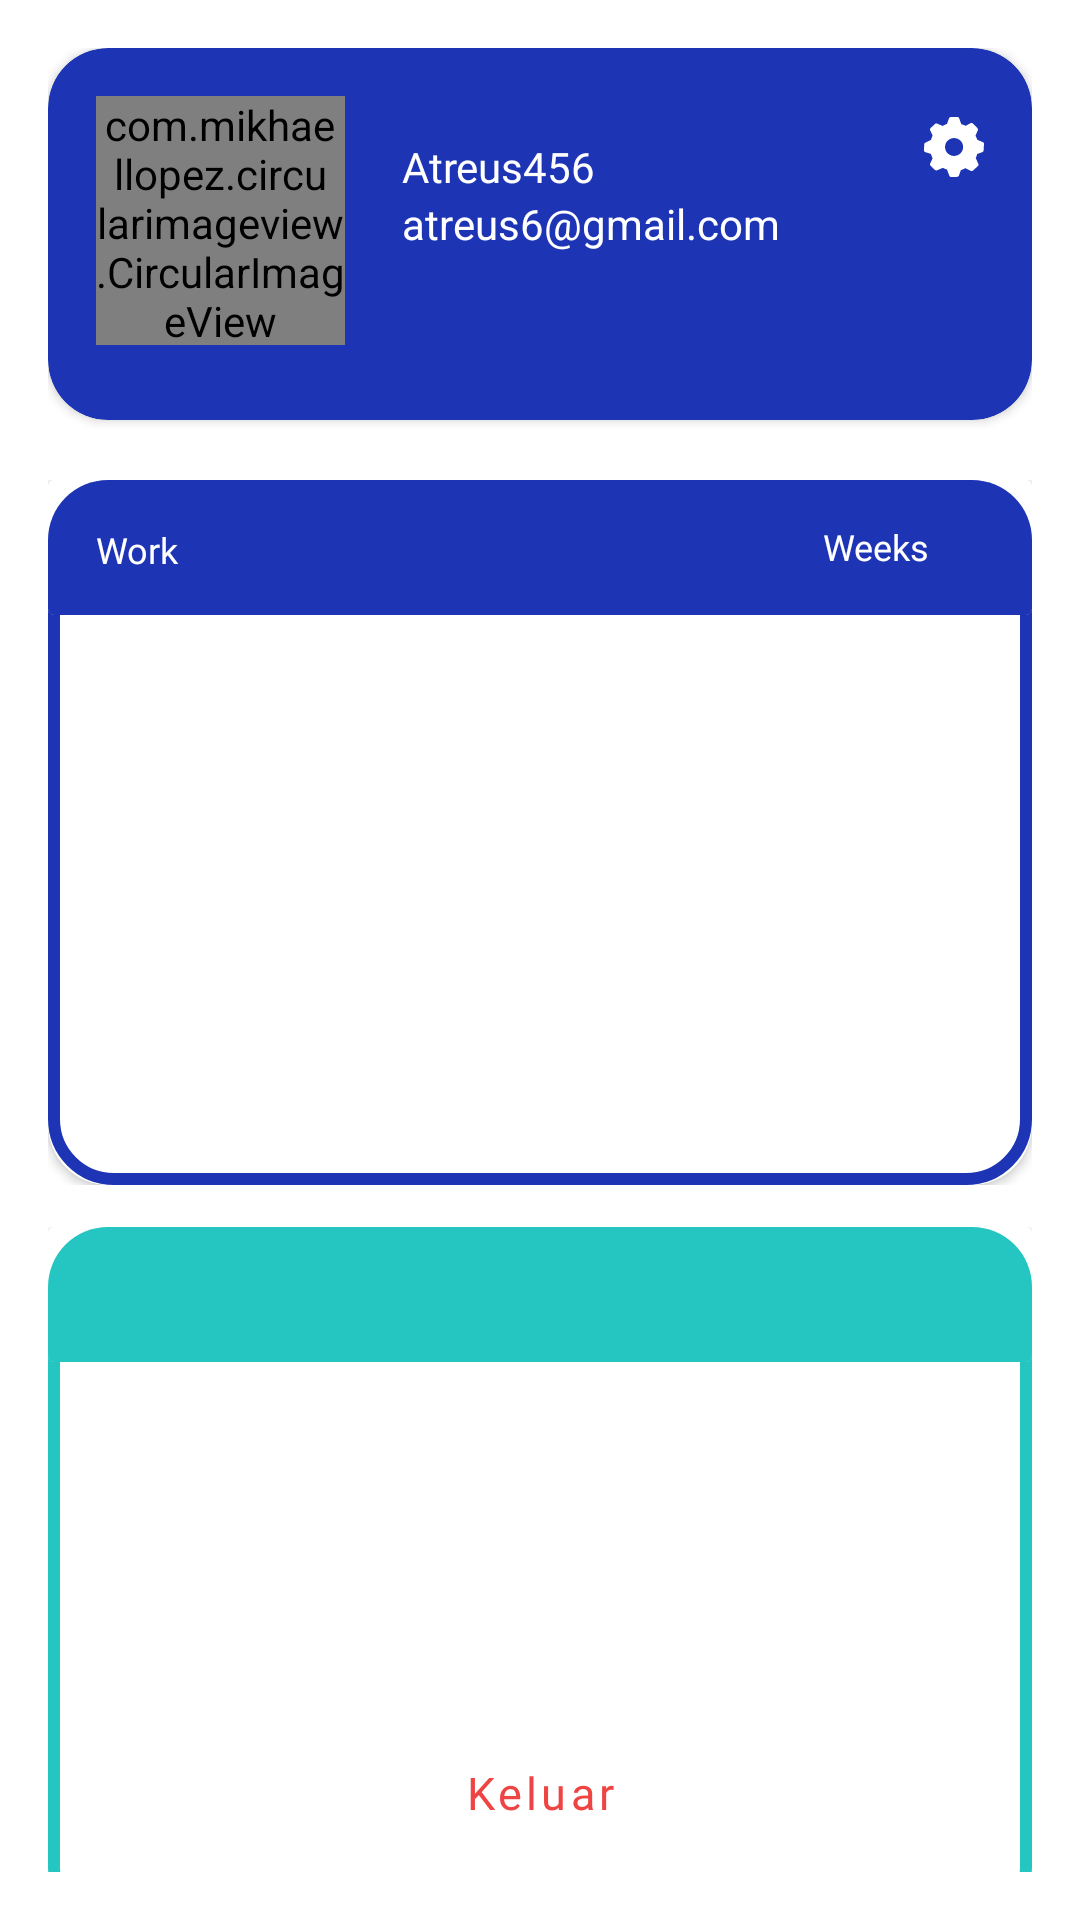

Icon bounding boxes for this 1080w x 1920h phone screenshot, format (x1=x1, y1=y1, x2=x2, y2=y2):
vectorsetting: (x1=924, y1=117, x2=984, y2=177)
